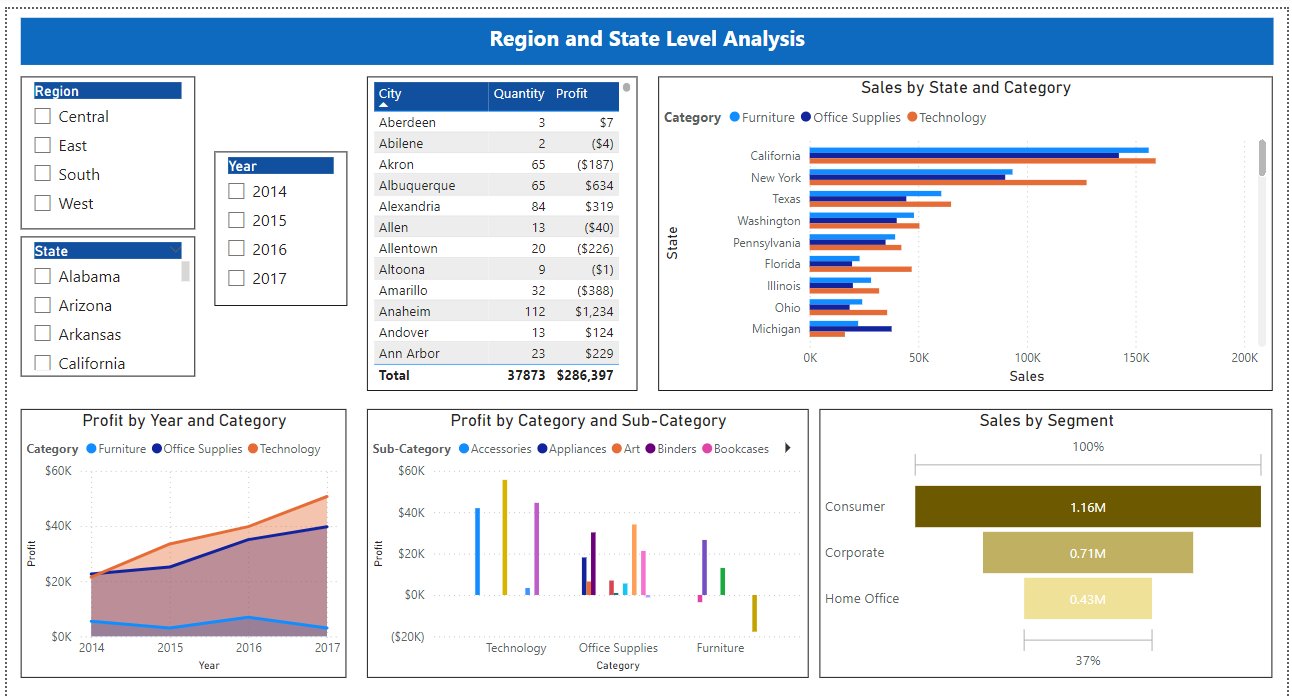

Layout of this report page (visuals, bound fields, positions):
{"tool":"powerbi","page":{"name":"Page 1","canvas":[1280,720],"ordinal":0},"visuals":[{"type":"slicer","fields":{"Values":["Orders.Region"]},"box":[14.3,67.1,174.3,152.9],"z":0},{"type":"slicer","fields":{"Values":["Orders.Order Date.Variation.Date Hierarchy.Year"]},"box":[207.1,142.9,132.9,154.3],"z":1},{"type":"slicer","fields":{"Values":["Orders.State"]},"box":[14.3,227.1,174.3,140],"z":2},{"type":"textbox","box":[13.8,8.8,1252.5,47.5],"z":3},{"type":"tableEx","fields":{"Values":["Orders.City","Sum(Orders.Quantity)","Sum(Orders.Profit)"]},"box":[360,67.1,270,314.3],"z":4},{"type":"clusteredBarChart","title":"Sales by State and Category","fields":{"Category":["Orders.State"],"Series":["Orders.Category"],"Y":["Sum(Orders.Sales)"]},"box":[651.4,67.1,614.3,314.3],"z":5},{"type":"areaChart","title":"Profit by Year and Category","fields":{"Category":["Orders.Order Date.Variation.Date Hierarchy.Year"],"Series":["Orders.Category"],"Y":["Sum(Orders.Profit)"]},"box":[14.3,400,325.7,268.6],"z":6},{"type":"clusteredColumnChart","fields":{"Category":["Orders.Category"],"Y":["Sum(Orders.Profit)"],"Series":["Orders.Sub-Category"]},"box":[360,400,441.4,268.6],"z":7},{"type":"funnel","title":"Sales by Segment","fields":{"Category":["Orders.Segment"],"Y":["Sum(Orders.Sales)"]},"box":[812.9,400,452.9,268.6],"z":8}]}

Visuals, with their boxes in screenshot pixels (x1, y1, x2, y2):
slicer - Orders.Region: [left=24, top=66, right=197, bottom=218]
slicer - Orders.Order Date.Variation.Date Hierarchy.Year: [left=215, top=141, right=346, bottom=294]
slicer - Orders.State: [left=24, top=225, right=197, bottom=363]
textbox: [left=24, top=9, right=1262, bottom=56]
tableEx - Orders.City x Sum(Orders.Quantity): [left=366, top=66, right=633, bottom=377]
"Sales by State and Category" clusteredBarChart: [left=654, top=66, right=1262, bottom=377]
"Profit by Year and Category" areaChart: [left=24, top=396, right=346, bottom=661]
clusteredColumnChart - Orders.Category x Sum(Orders.Profit): [left=366, top=396, right=803, bottom=661]
"Sales by Segment" funnel: [left=814, top=396, right=1262, bottom=661]
